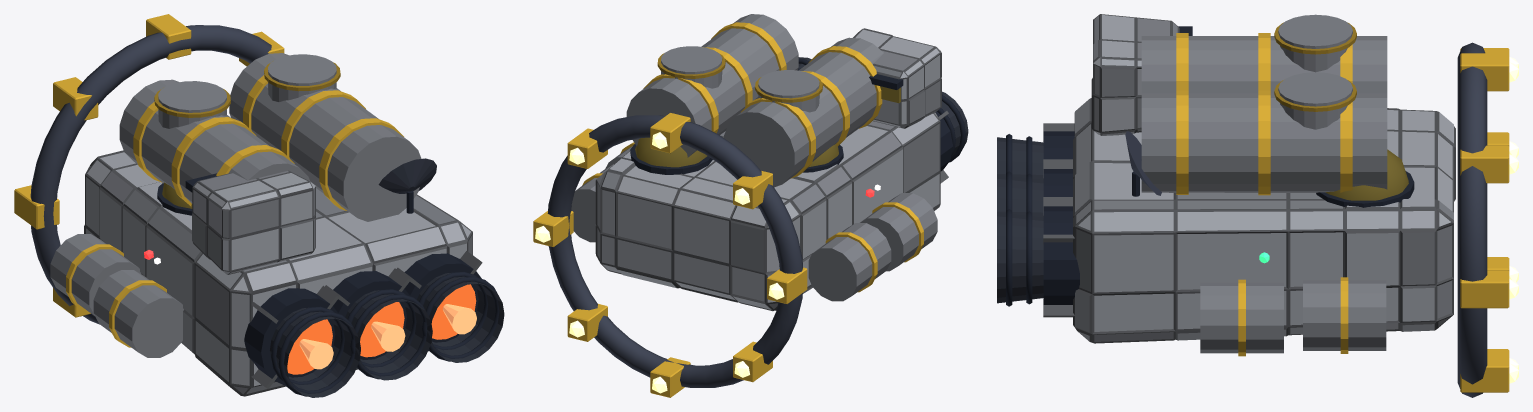
The model's file is quarry.glb.
The picture shows the model from 3 angles, left to right: view 1: azimuth 30°, elevation 25°; view 2: azimuth 150°, elevation 25°; view 3: azimuth 270°, elevation 25°; orthographic projection. The views are drawn at different scales.
Visible parts, largest first — view 1: quarry_mesh, radar_mesh; view 2: quarry_mesh; view 3: quarry_mesh, radar_mesh.
Boxes of the visible parts, box(x1,y1,x2,y2) form: quarry_mesh: box(14, 14, 504, 397); radar_mesh: box(378, 158, 436, 213); quarry_mesh: box(533, 14, 968, 397); quarry_mesh: box(997, 14, 1518, 397); radar_mesh: box(1125, 131, 1161, 196).
Size of the model in its own units: 6.93 by 5.81 by 8.53.
